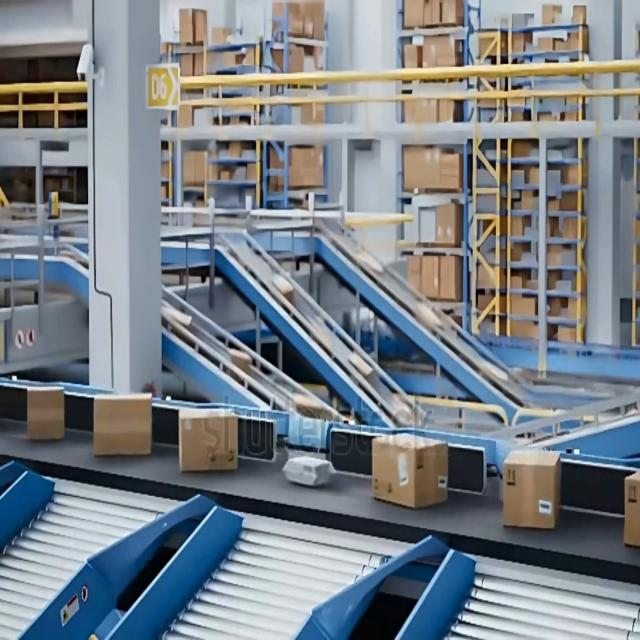product 1: (371, 431, 448, 509), (178, 407, 238, 472), (93, 392, 152, 456)
product 2: (282, 454, 335, 487)
